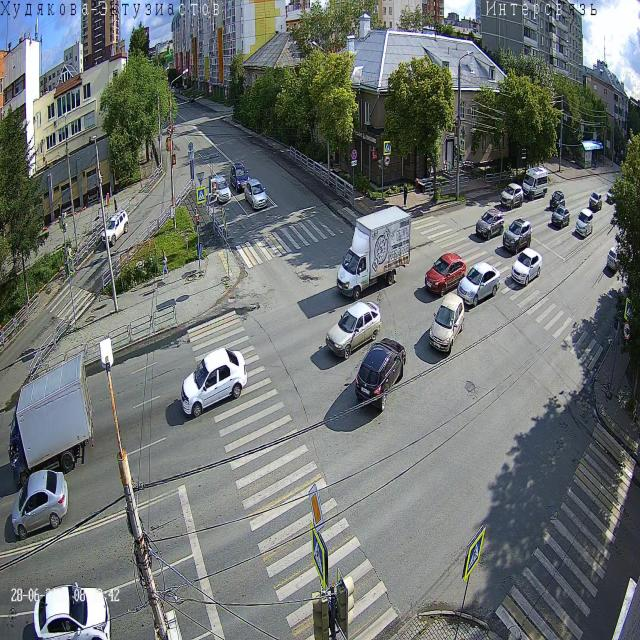car: (180, 346, 248, 420), (33, 583, 112, 640), (11, 468, 70, 542), (354, 337, 406, 413), (326, 299, 382, 360), (428, 292, 465, 355), (457, 262, 501, 307), (424, 252, 466, 297), (511, 247, 543, 287), (502, 217, 532, 256), (102, 208, 130, 248), (475, 207, 505, 241), (244, 178, 268, 211), (499, 182, 524, 210), (230, 162, 250, 192), (212, 174, 231, 204), (575, 208, 593, 238), (551, 204, 570, 230), (607, 246, 624, 273), (549, 190, 565, 212), (589, 191, 602, 213), (606, 186, 618, 204), (188, 95, 195, 103)
pedestrian: (161, 246, 170, 282), (403, 182, 408, 208), (114, 195, 118, 216), (150, 146, 154, 165), (594, 156, 597, 171)
shuttle_taxi: (521, 166, 548, 201)
truck: (6, 353, 95, 493), (336, 205, 411, 301)
